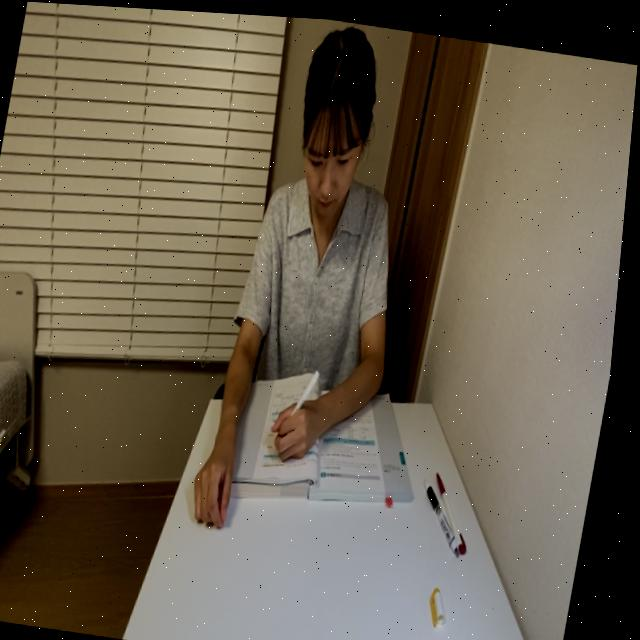studying-person: (181, 10, 501, 569)
